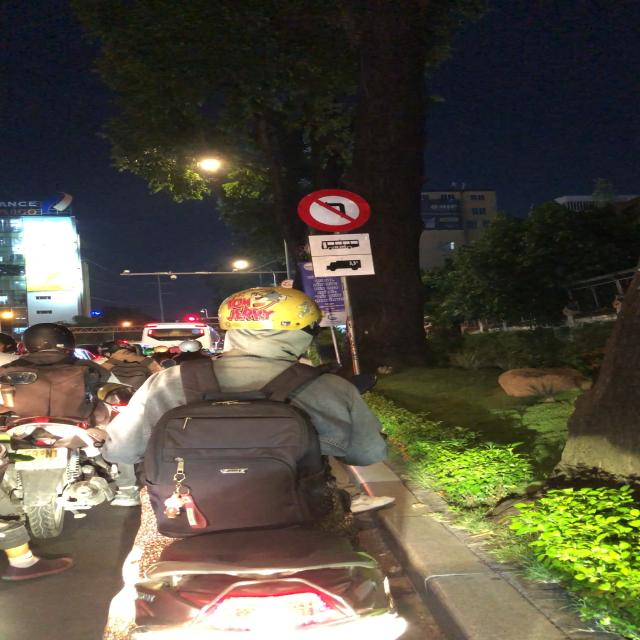Bien bao cam re trai: (296, 185, 373, 232)
